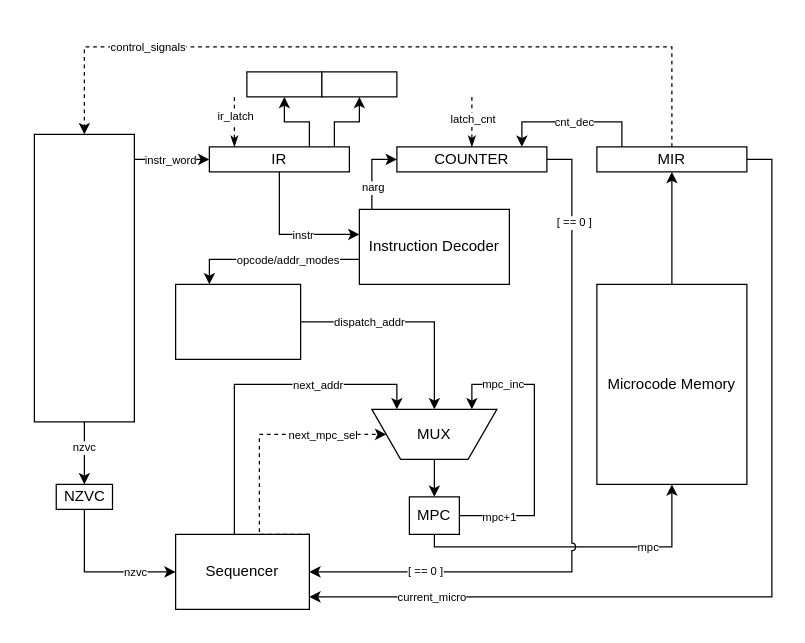
The diagram is 805 pixels wide and 643 high, and some of its shapes have lost their labels. The shapes that lost their labels are listed below. From the top down, each one's centre as x and y in pixels, then its label:
point (284, 84): src
point (359, 84): dst
point (83, 277): Datapath
point (237, 321): Dispatch Logic
